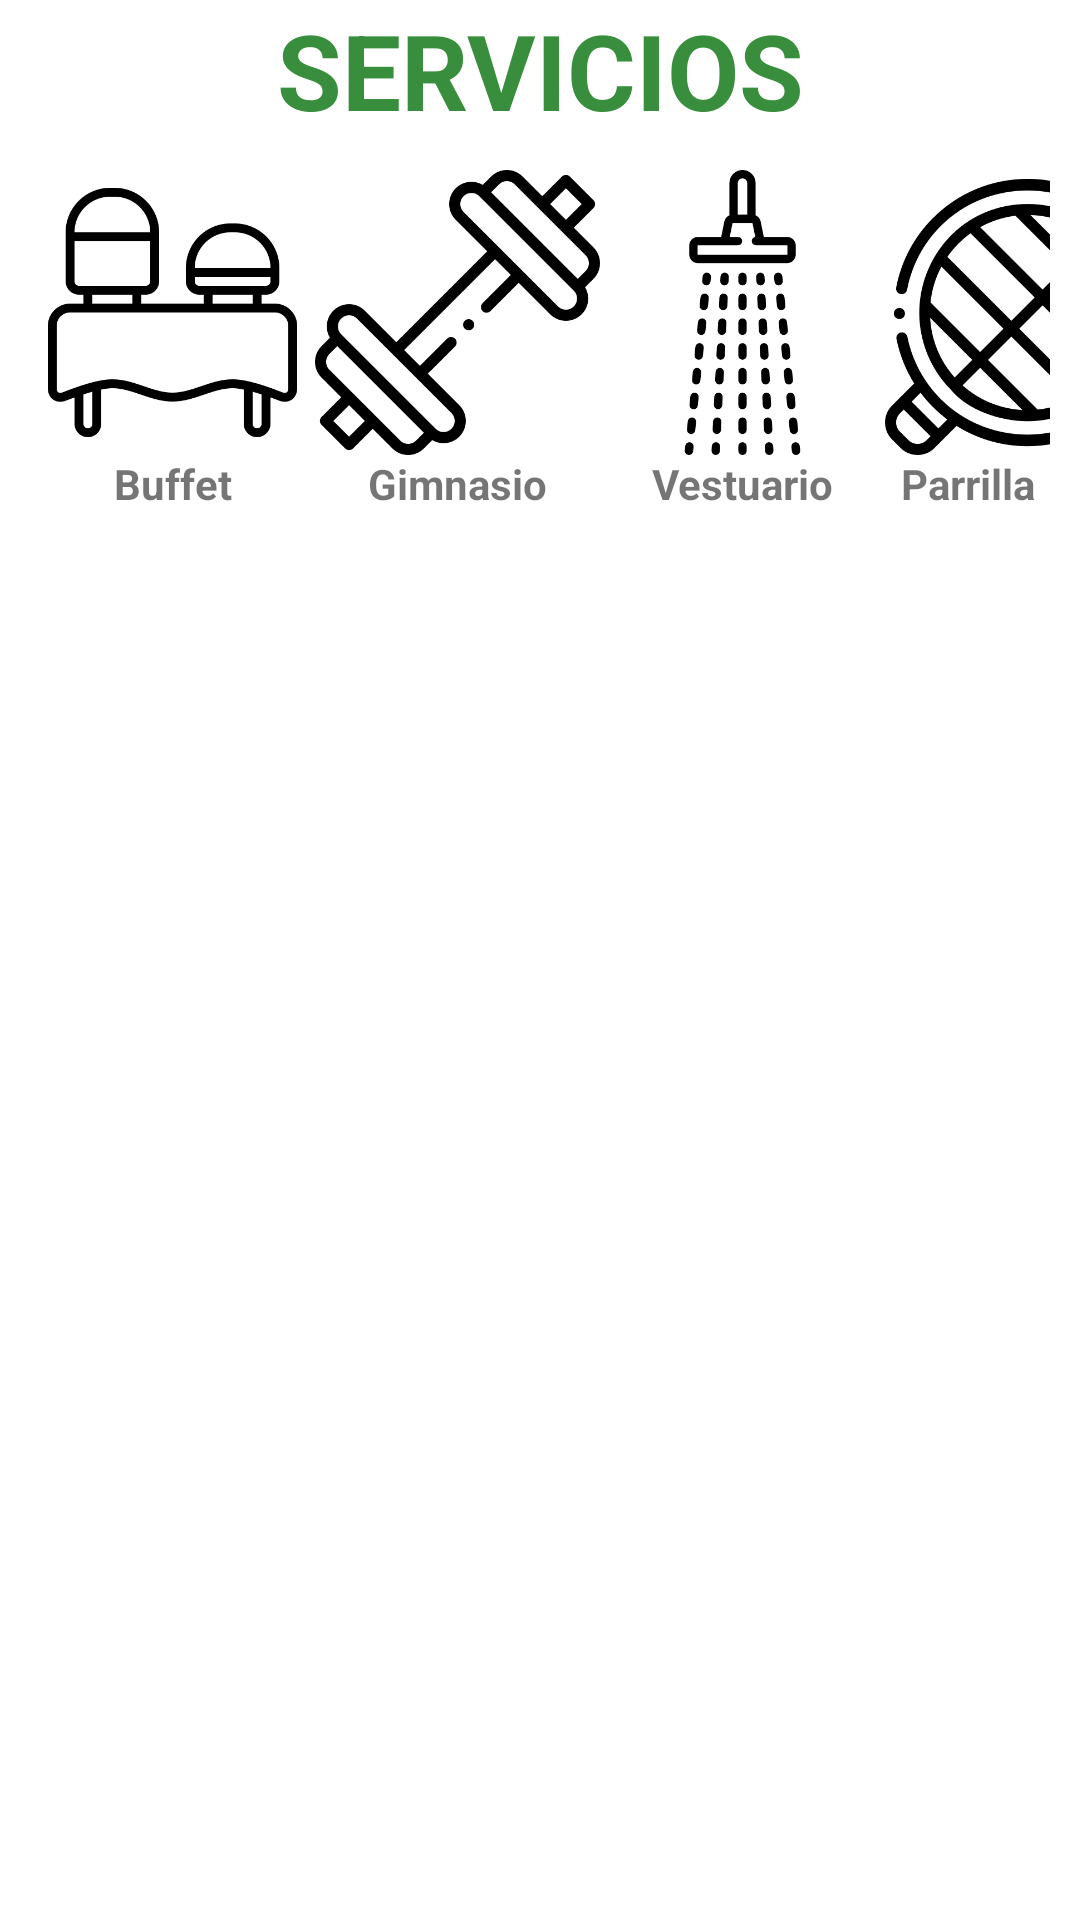

Icon bounding boxes for this 1080 x 1920 phone screenshot, format detection(x1, y1, x2, y2):
shower: detection(684, 170, 801, 455)
